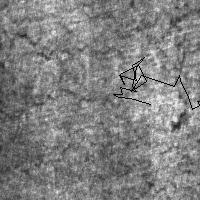crazing: (1, 20, 146, 103), (155, 6, 196, 133), (113, 57, 200, 109)
